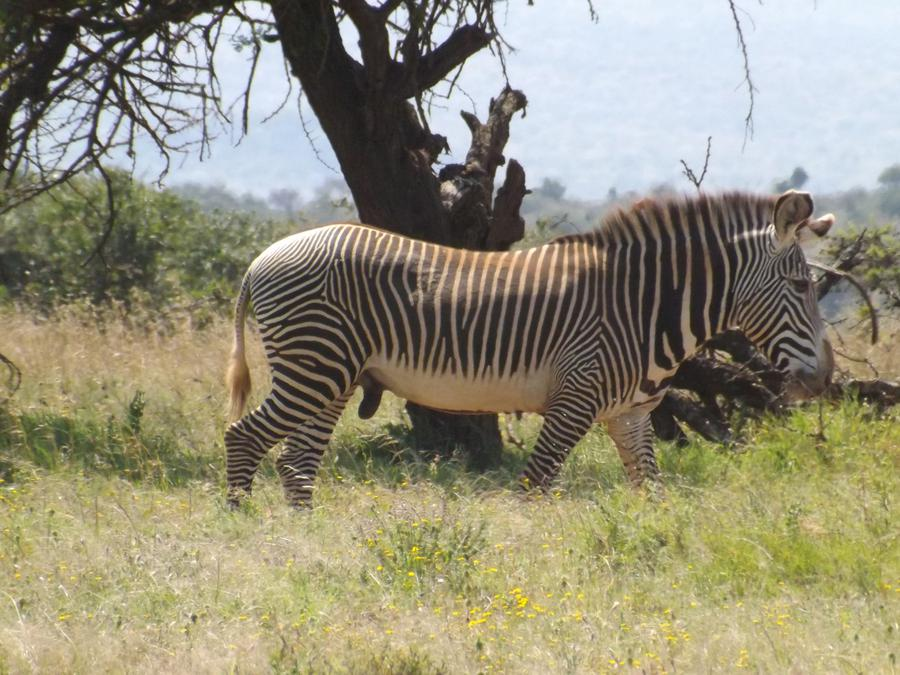zebra_grevys: (241, 188, 642, 412)
